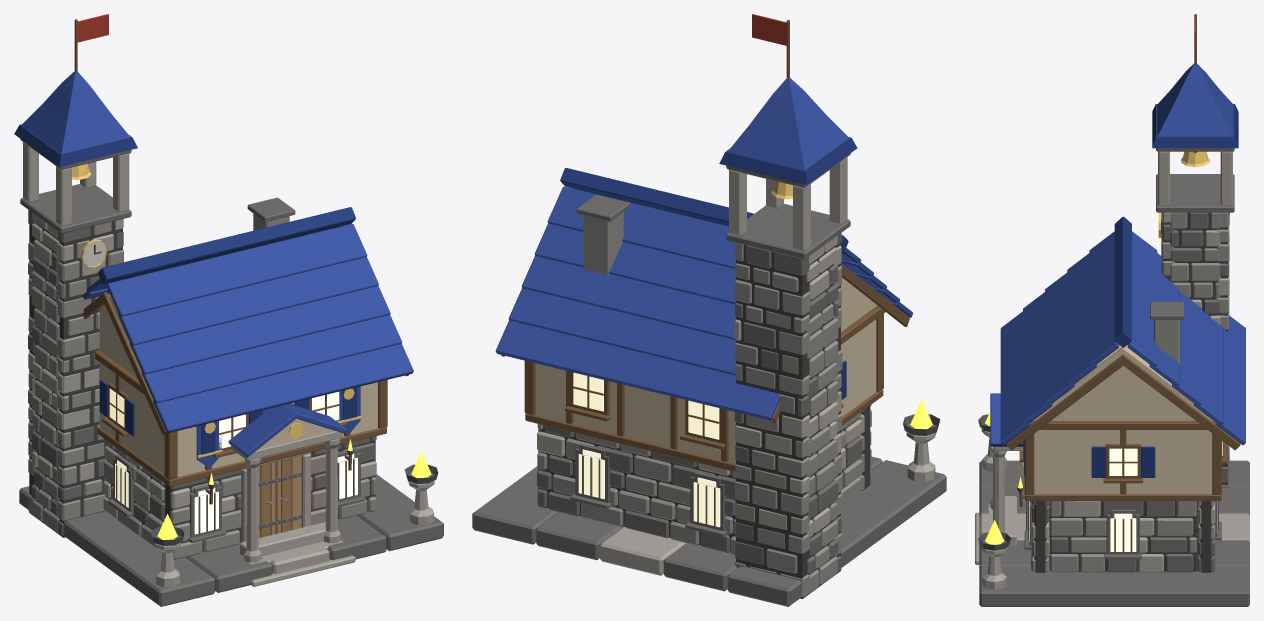
Rendered from town_hall_3.glb.
3 views of the same model, side by side, from view 1: azimuth 30°, elevation 25°; view 2: azimuth 150°, elevation 25°; view 3: azimuth 270°, elevation 25° (orthographic). The views are drawn at different scales.
Parts seen in each view (by area): view 1: TownHall; view 2: TownHall; view 3: TownHall.
Part boxes in pixels (box(x1,y1,x2,y2)): TownHall: box(14, 14, 443, 606); TownHall: box(472, 14, 946, 606); TownHall: box(975, 14, 1249, 606).
Size of the model in its own units: 7.43 by 12 by 6.3.
